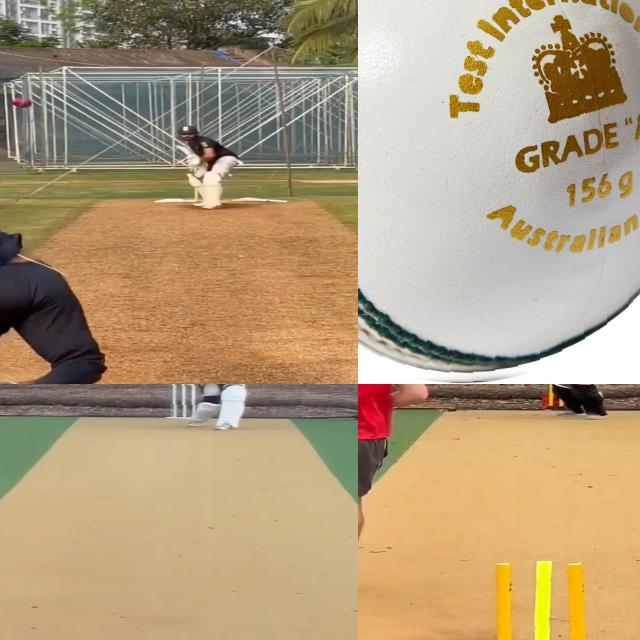Cricket ball: (358, 0, 640, 384), (12, 97, 32, 108), (181, 384, 194, 387)
Stumps: (477, 560, 599, 640), (169, 384, 197, 419)
